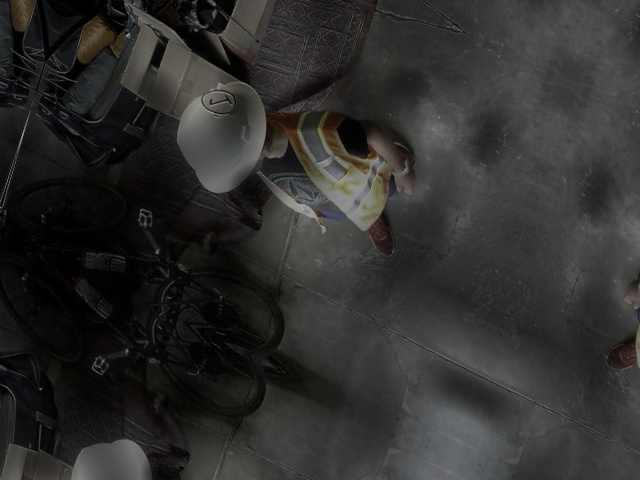one: (197, 80, 237, 120)
